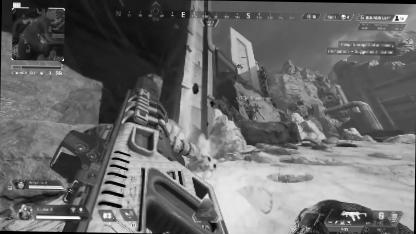Target: (250, 102, 266, 120)
